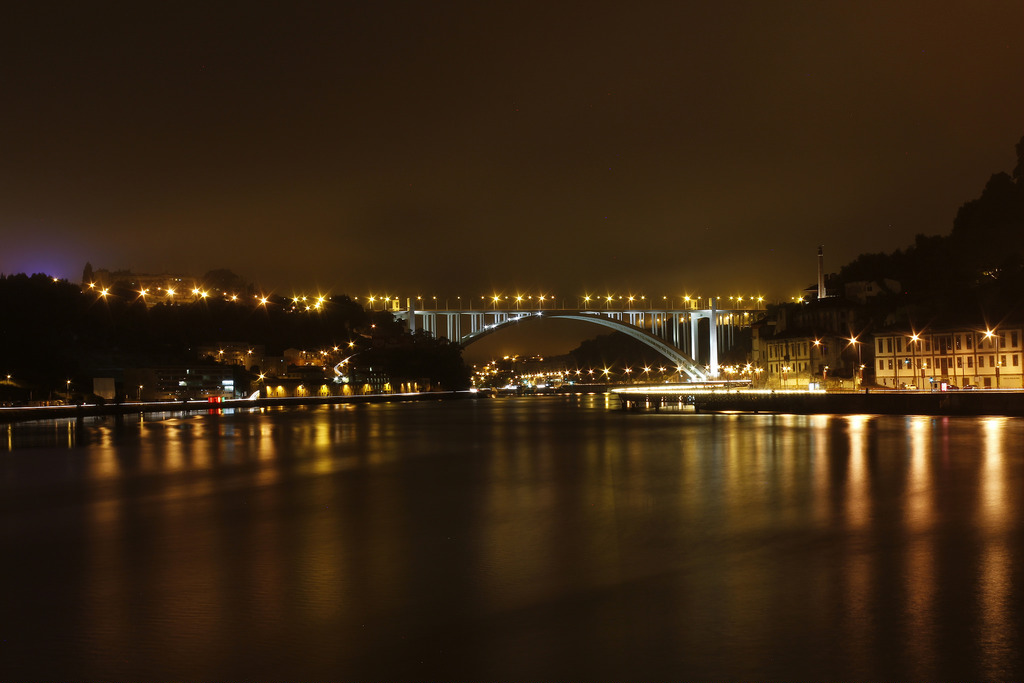arrabida: (377, 295, 768, 384)
